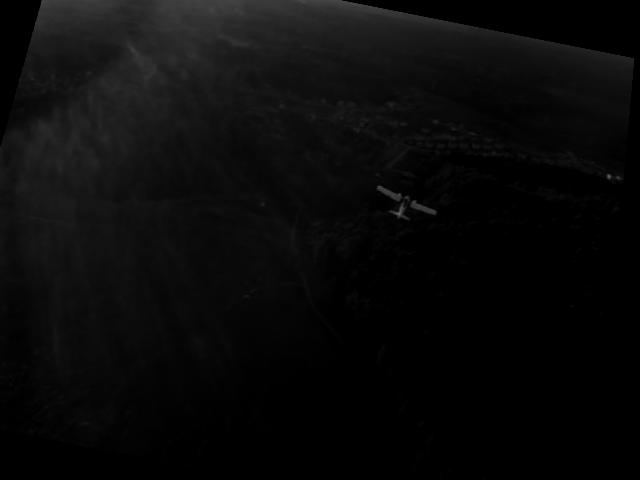hedef: (356, 174, 462, 241)
